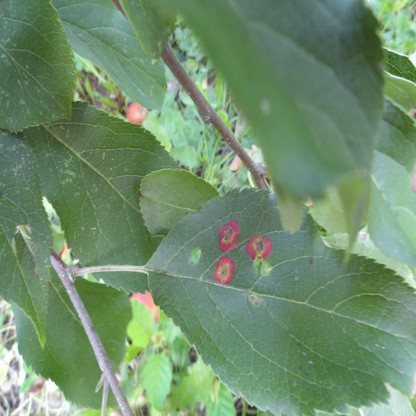rust: (217, 221, 238, 251), (246, 235, 272, 259), (213, 257, 234, 283)
